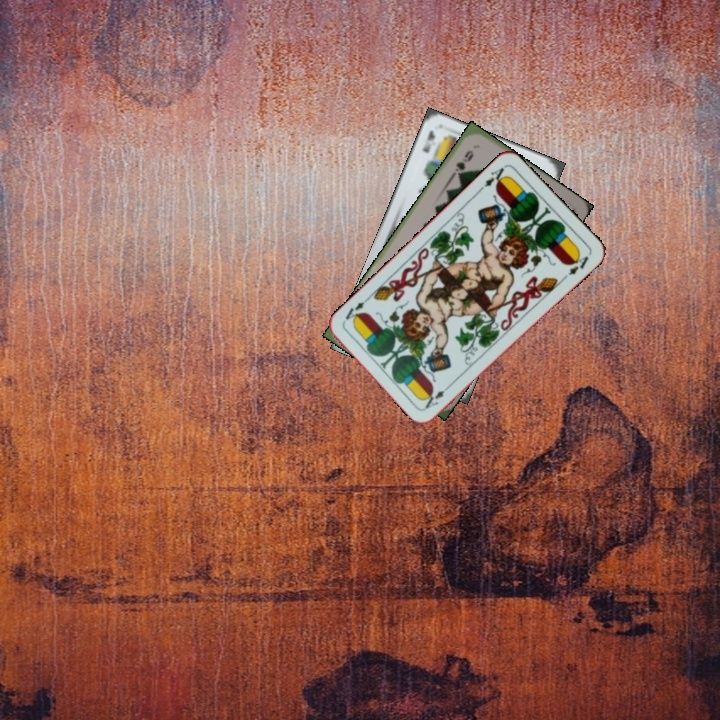EA: (474, 163, 510, 194), (421, 380, 455, 411)
EK: (418, 127, 438, 155)
G9: (449, 146, 476, 179)
